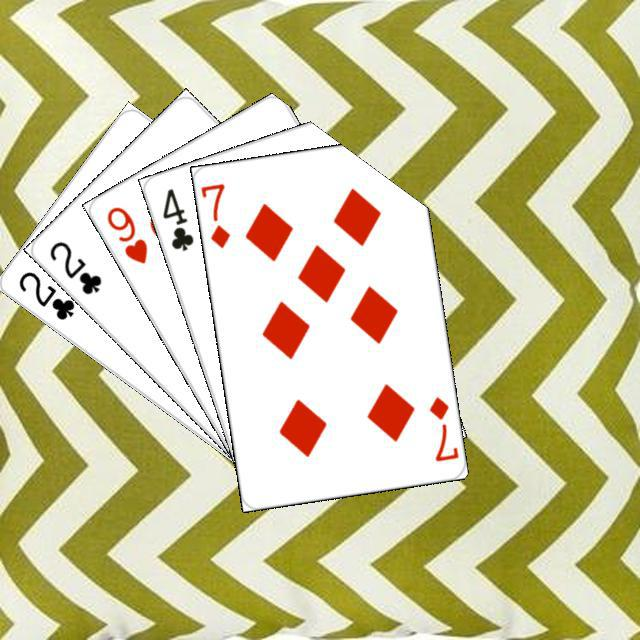2c: (44, 236, 104, 297), (13, 266, 77, 322)
4c: (157, 183, 196, 253)
7d: (198, 178, 232, 250), (424, 392, 458, 463)
9h: (101, 201, 150, 266)
